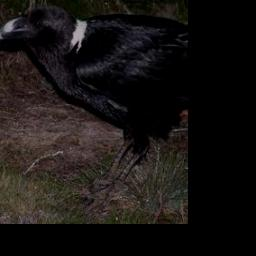Crow: (0, 4, 187, 216)
